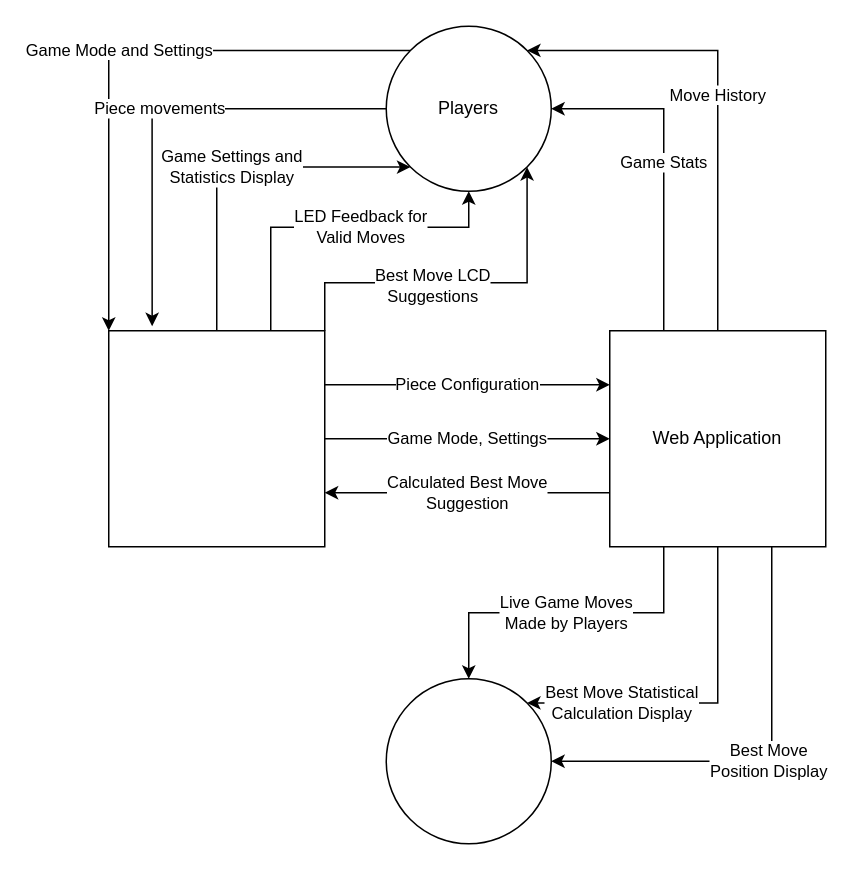
This 854x870 diagram has some shape labels left out. The shapes that lost their labels are listed below. From the top down, each one's centre as x and y in pixels, then its label:
At (216,438): "Chess Board".
At (468,760): "Remote Spectators".
